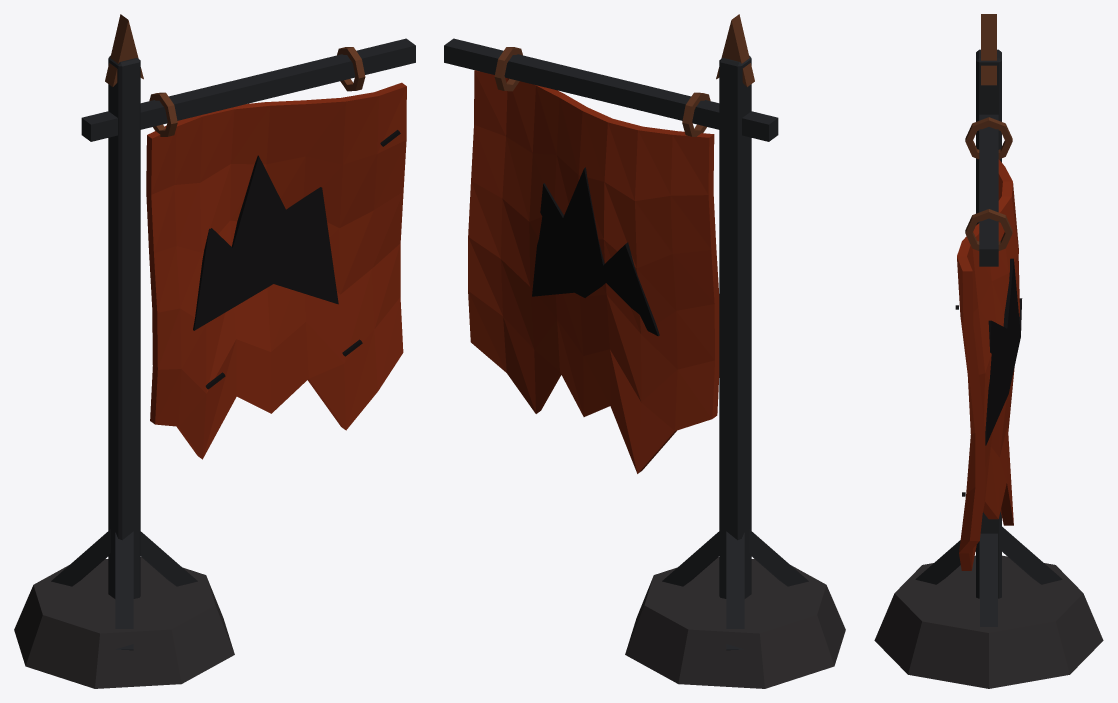
The model's file is Scorched_Banner.glb.
3 renders of one model, left to right at view 1: azimuth 30°, elevation 25°; view 2: azimuth 150°, elevation 25°; view 3: azimuth 270°, elevation 25°, orthographic.
Parts seen in each view (by area): view 1: Scorched_Banner; view 2: Scorched_Banner; view 3: Scorched_Banner.
Part boxes in pixels (bbox=[...]): Scorched_Banner: bbox=[14, 14, 415, 688]; Scorched_Banner: bbox=[444, 14, 845, 688]; Scorched_Banner: bbox=[874, 14, 1103, 688].
Bounding box in the file's own units: 2.22 × 3.44 × 1.14.
